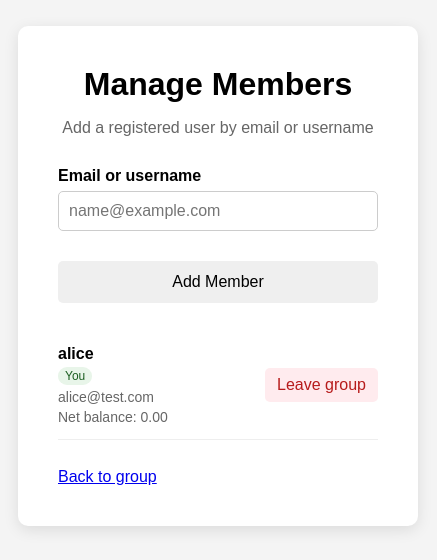
Test case: AC2: displays the duplicate-member message
Expected: the text "alice" is shown, [58,345,94,362]
In the field labelled "Email or username": (218, 211) [58,191,378,231], type "alice"
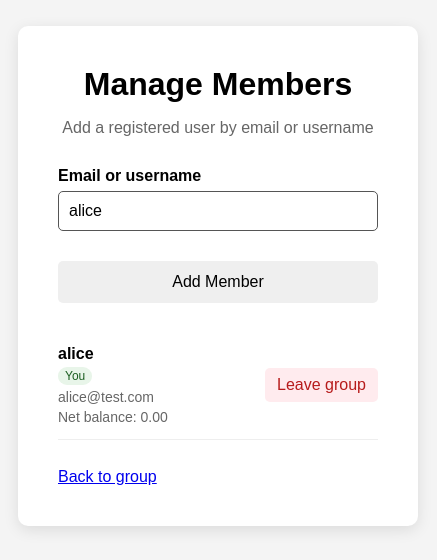
Click the button "Add Member": click(218, 282) [58,261,378,303]
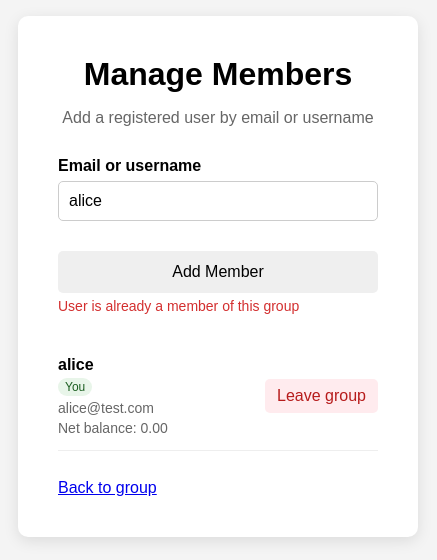
Now the message reads "User is already a member of this group", box [58,298,299,314]
